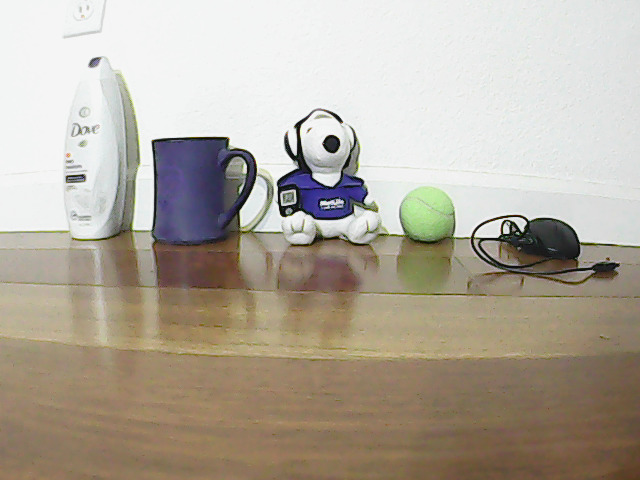ball: (394, 171, 458, 244)
mouse: (516, 206, 586, 261)
mug: (145, 128, 258, 246)
snoopy: (278, 101, 383, 242)
soap: (65, 46, 129, 241)
